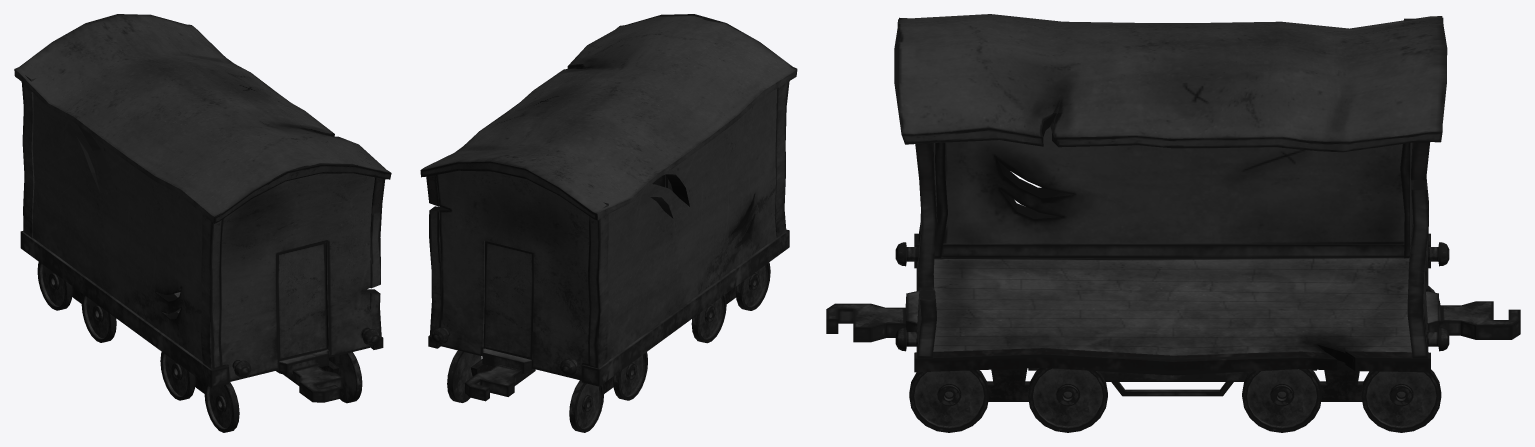
File: SM_Wagon_Destroyed_2.fbx
The picture shows the model from 3 angles, left to right: view 1: azimuth 30°, elevation 25°; view 2: azimuth 150°, elevation 25°; view 3: azimuth 270°, elevation 25°; orthographic projection. The views are drawn at different scales.
Parts seen in each view (by area): view 1: SM_Wagon_Hull_Destroy_2, Door_Left, Wheel_Back_Left.004, Wheel_Front_Left.004, Wheel_Back_MidLeft, Wheel_Back_Right.004, Wheel_Back_MidRight.003; view 2: SM_Wagon_Hull_Destroy_2, Door_Right, Wheel_Back_Right.004, Wheel_Front_Right.004, Wheel_Back_Left.004, Wheel_Back_MidRight.003, Wheel_Back_MidLeft; view 3: SM_Wagon_Hull_Destroy_2, Wheel_Front_MidLeft.003, Wheel_Front_MidRight.003, Wheel_Front_Left.004, Wheel_Front_Right.004.
Boxes of the visible parts, <box> form: SM_Wagon_Hull_Destroy_2: <box>14,14,391,402</box>; Door_Left: <box>277,242,327,360</box>; Wheel_Back_Left.004: <box>204,382,239,432</box>; Wheel_Front_Left.004: <box>329,352,362,403</box>; Wheel_Back_MidLeft: <box>160,352,195,400</box>; Wheel_Back_Right.004: <box>37,262,72,310</box>; Wheel_Back_MidRight.003: <box>81,294,116,342</box>; SM_Wagon_Hull_Destroy_2: <box>420,14,797,401</box>; Door_Right: <box>483,241,533,359</box>; Wheel_Back_Right.004: <box>569,380,604,432</box>; Wheel_Front_Right.004: <box>447,350,481,402</box>; Wheel_Back_Left.004: <box>735,262,770,310</box>; Wheel_Back_MidRight.003: <box>613,352,647,400</box>; Wheel_Back_MidLeft: <box>691,294,726,343</box>; SM_Wagon_Hull_Destroy_2: <box>826,14,1520,401</box>; Wheel_Front_MidLeft.003: <box>1028,368,1107,432</box>; Wheel_Front_MidRight.003: <box>1242,369,1321,432</box>; Wheel_Front_Left.004: <box>909,370,989,432</box>; Wheel_Front_Right.004: <box>1361,369,1441,432</box>.
Size of the model in its own units: 212 by 302 by 531.
